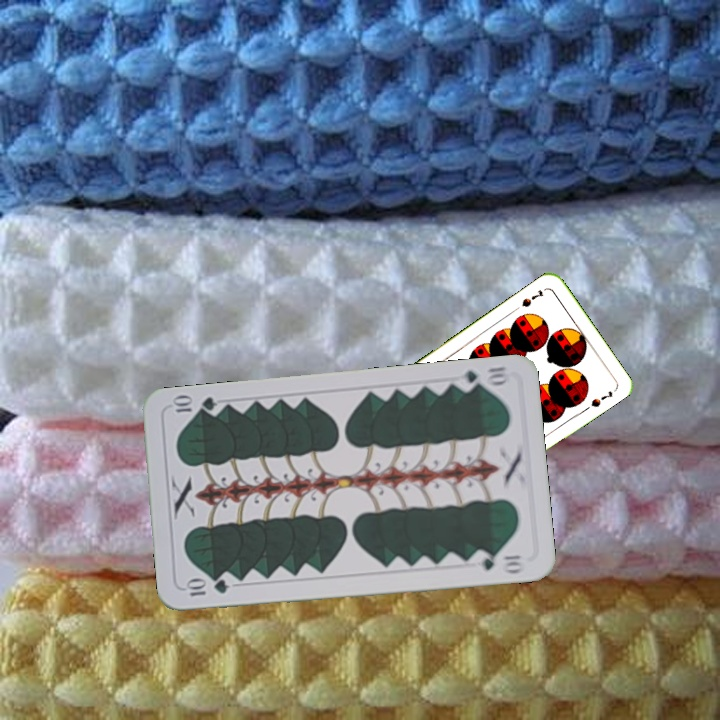G10: (453, 362, 512, 393), (181, 576, 232, 599)
S7: (517, 286, 546, 310)
